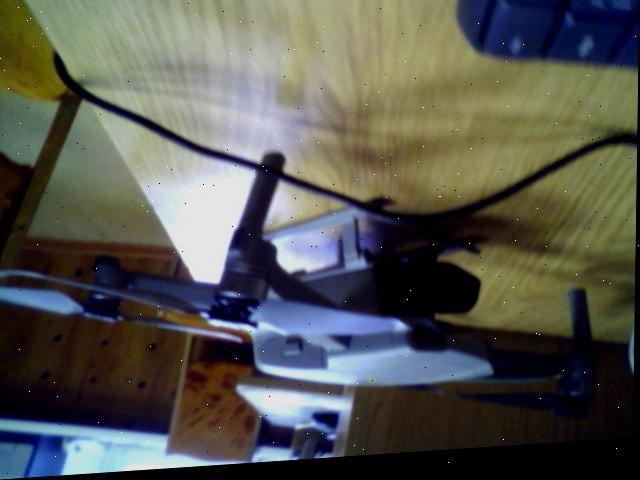drone: (0, 137, 638, 461)
